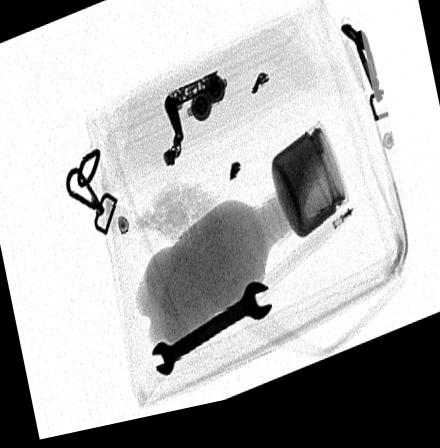Wrench: (149, 294, 271, 383)
